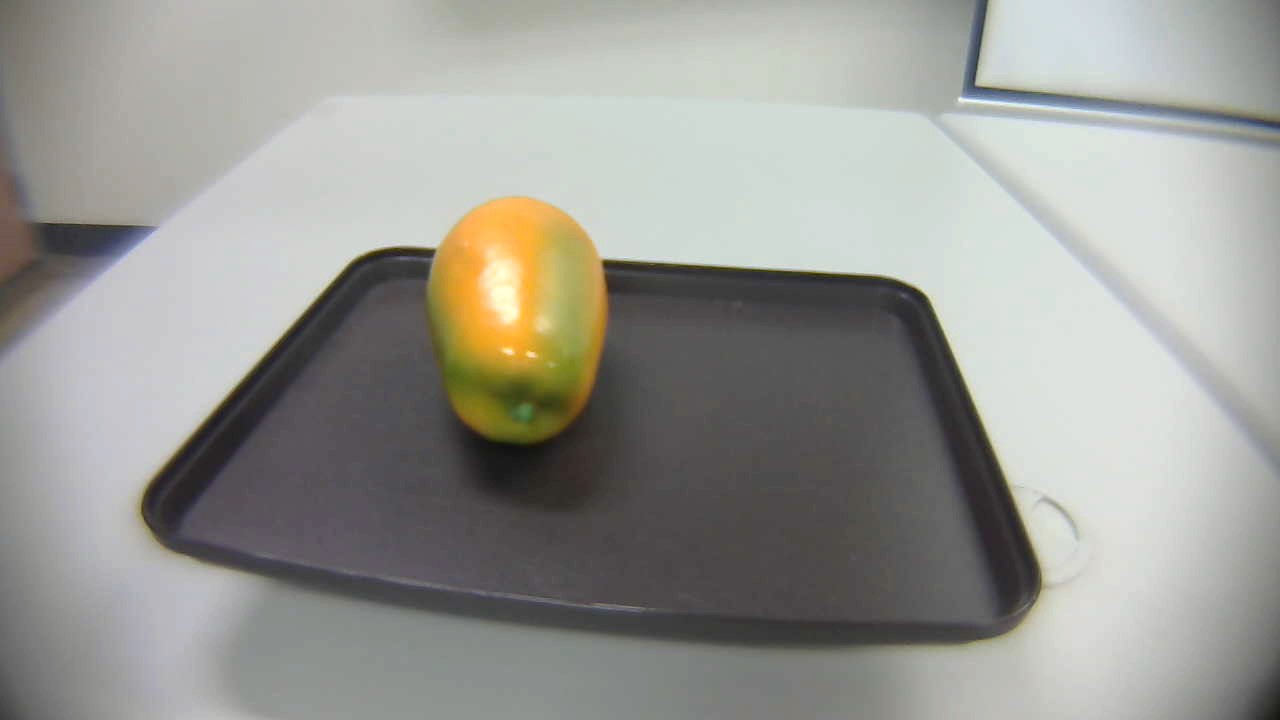papya: (414, 182, 617, 464)
